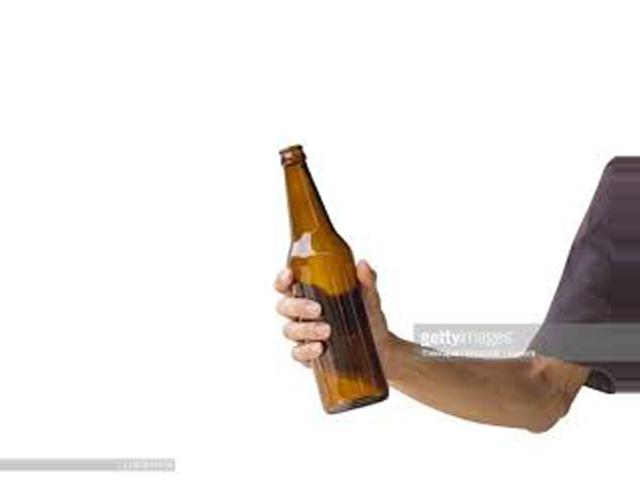beer: (279, 146, 391, 412)
